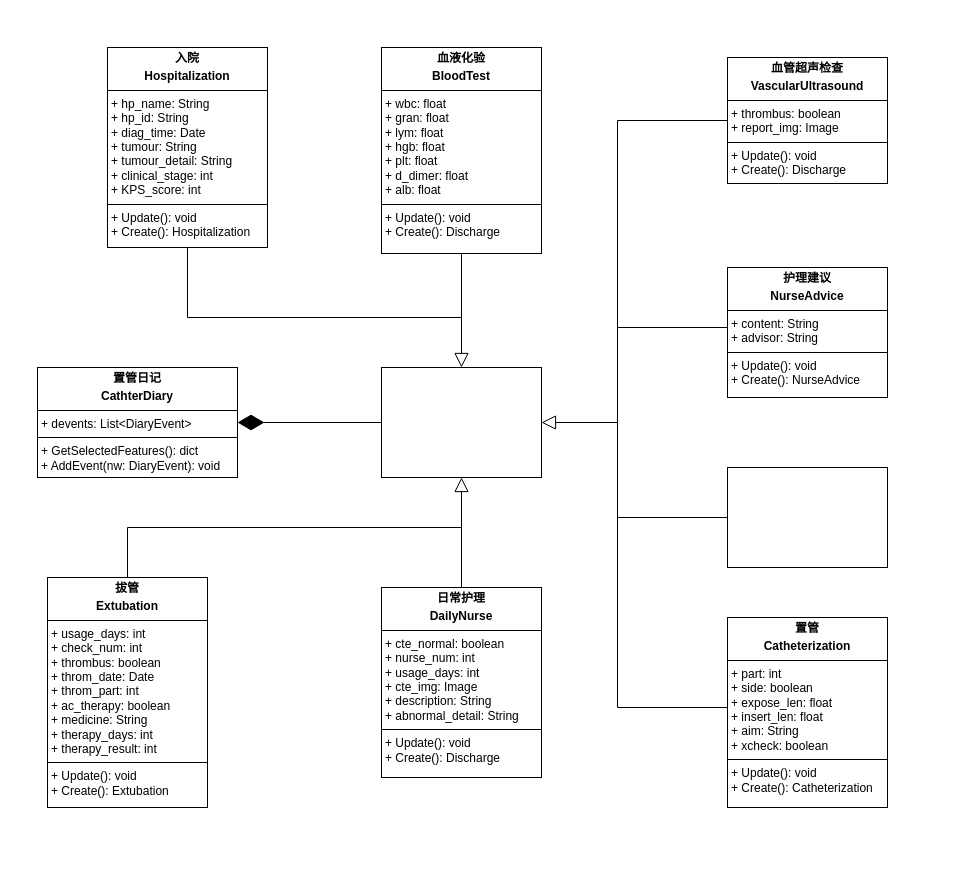
Image size: 964x874. Some labels were removed from this diagram. Here are the shapes that lost their labels. From the top down, the centre of each, then its label:
At (461,422): "日记事件 DiaryEvent + type: String + date: Date + Update(): void".
At (807,517): "出院 Discharge + Create(): Discharge".
